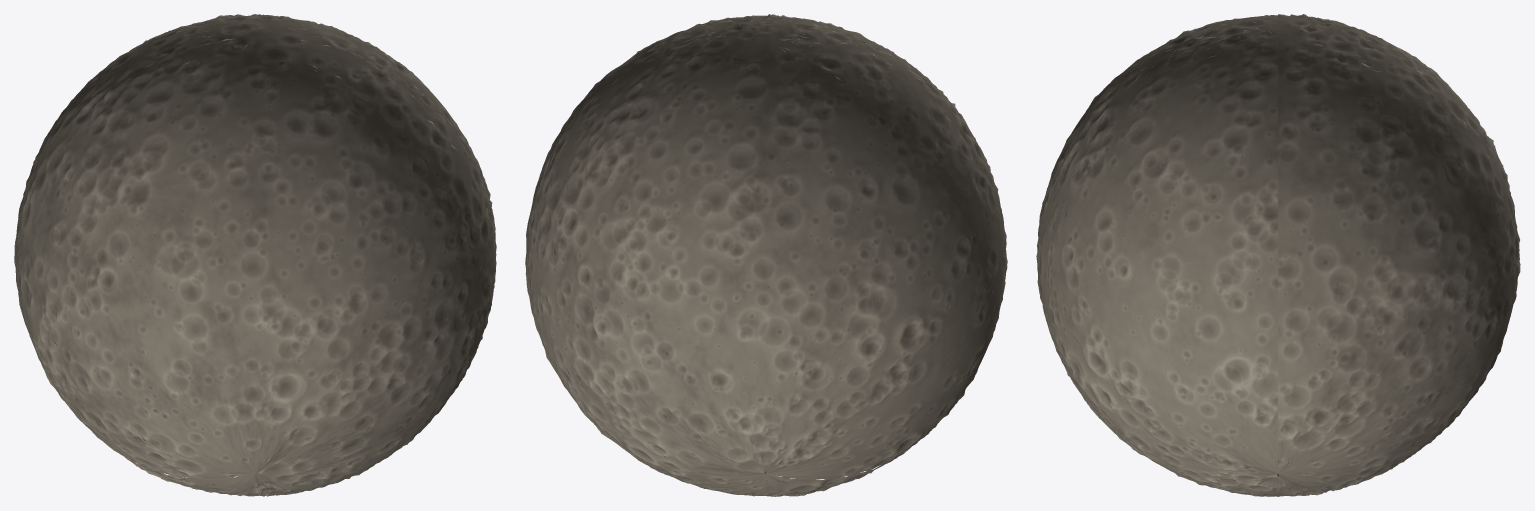
Rendered from mercury.glb.
3 views of the same model, side by side, from view 1: azimuth 30°, elevation 25°; view 2: azimuth 150°, elevation 25°; view 3: azimuth 270°, elevation 25° (orthographic).
Parts seen in each view (by area): view 1: Mercury; view 2: Mercury; view 3: Mercury.
Boxes of the visible parts, left/top/right/bottom form: Mercury: left=14, top=14, right=496, bottom=496; Mercury: left=525, top=14, right=1007, bottom=496; Mercury: left=1036, top=14, right=1520, bottom=496.
Bounding box in the file's own units: 2.01 × 2.01 × 2.01.
1 material, 1 textured.
